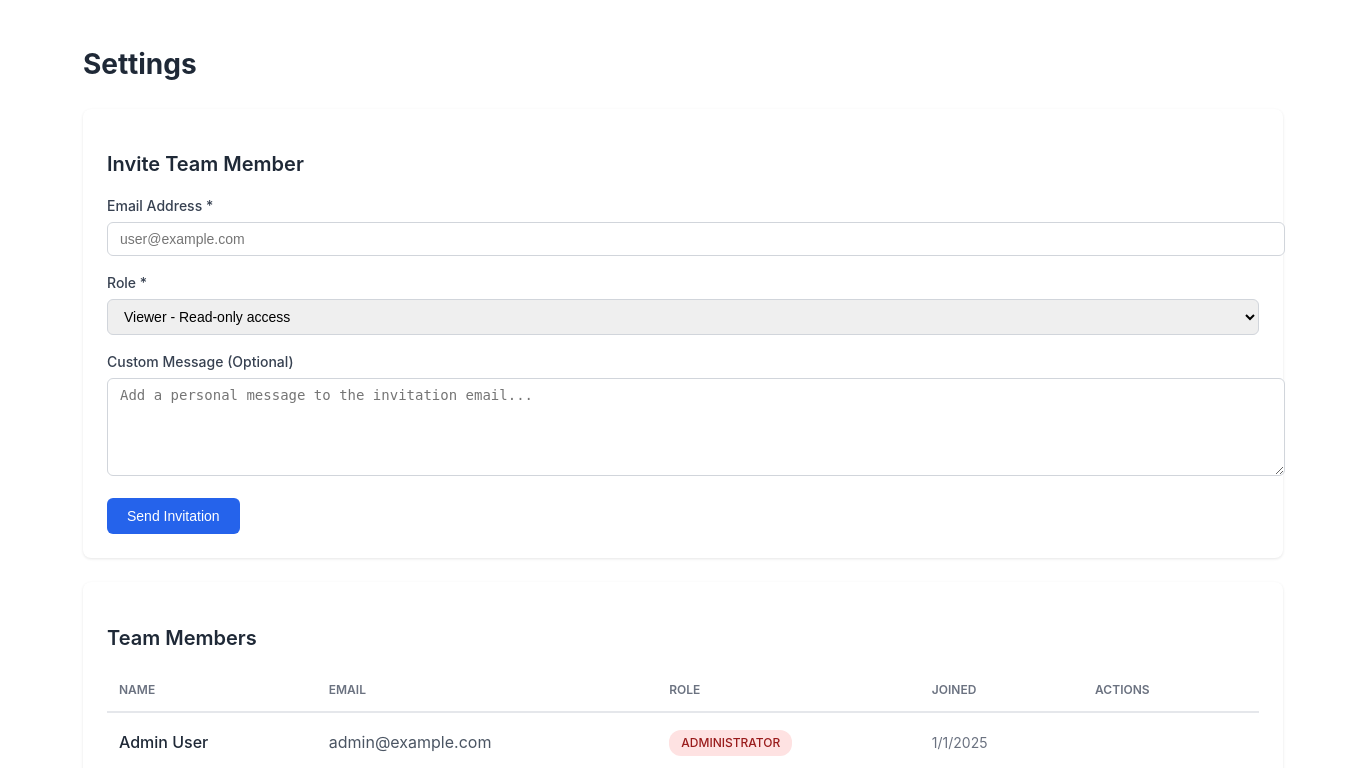
it: SettingsPage Integration Tests › Invite User Workflow › displays permission error when user lacks access
The width and height of the screenshot is (1366, 768).
Expected: the text "Admin User" is shown, left=119, top=732, right=208, bottom=752
In the field labelled "Email Address *": (696,239) left=107, top=222, right=1285, bottom=256, type "newuser@example.com"
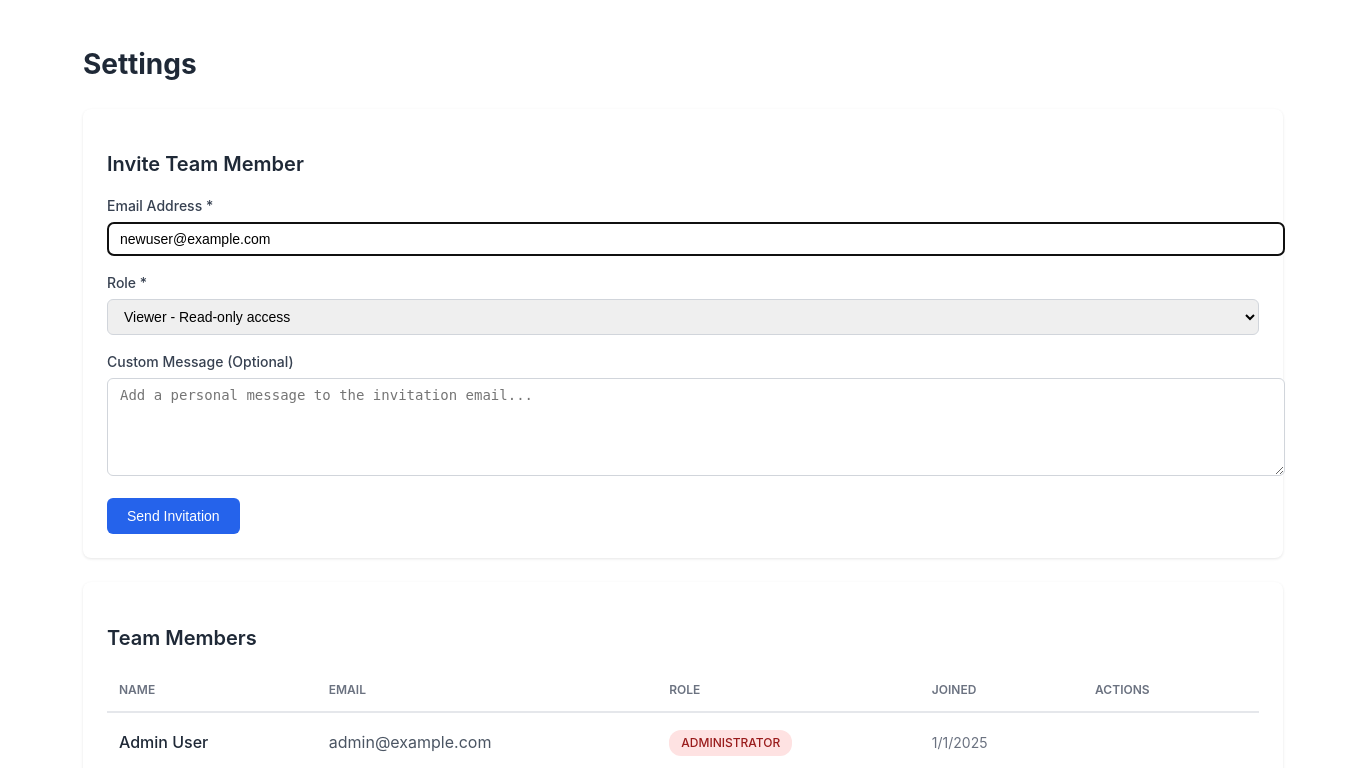
Click the button "Send Invitation": (173,516) left=107, top=498, right=240, bottom=534
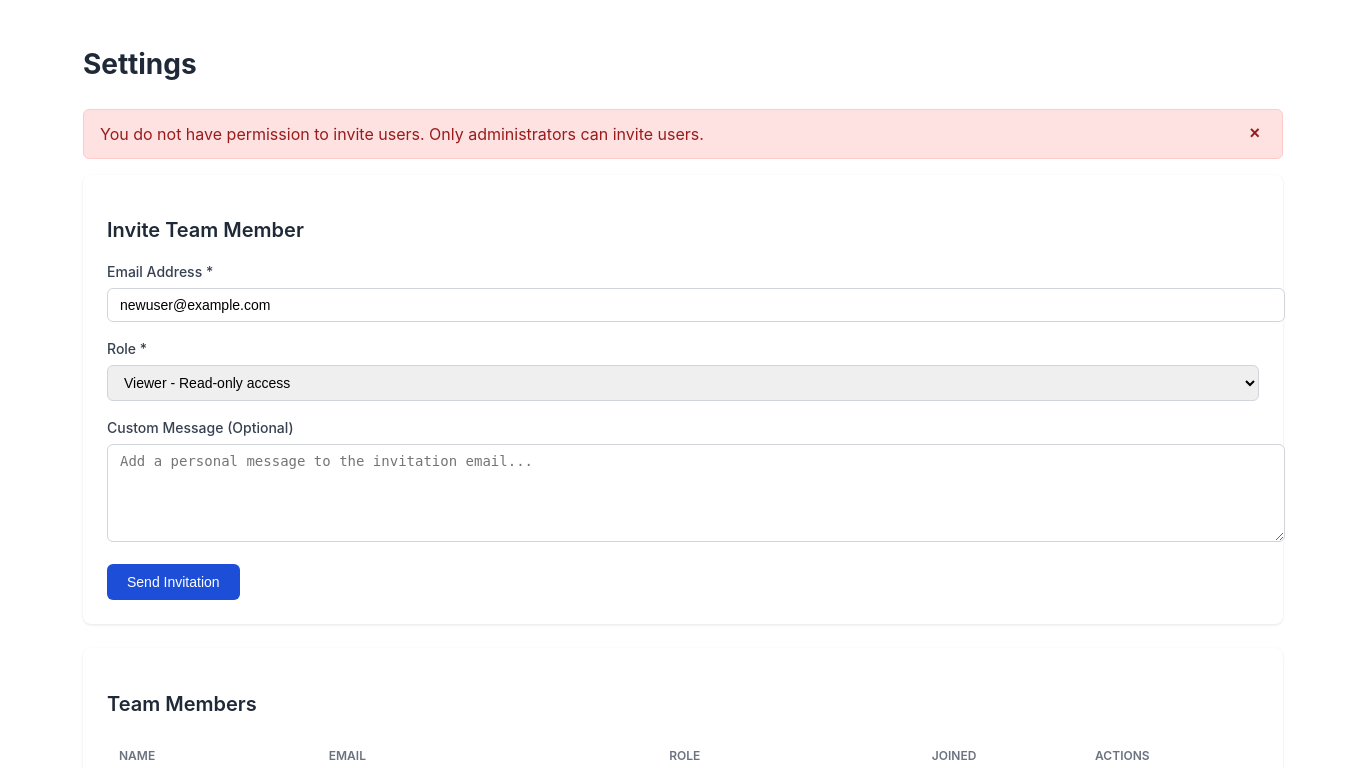
Expected: the text "permission to invite users" is shown, left=100, top=124, right=704, bottom=144
